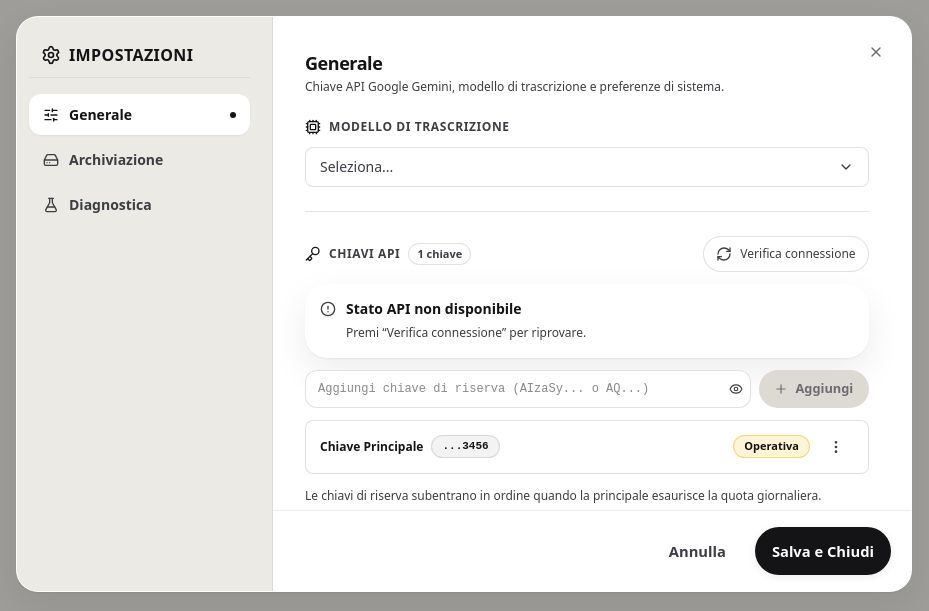
Test: SettingsModal — save behavior › missing bridge: modal stays open, inline error displayed, console notified
Click the button "Salva e Chiudi" at (823, 551), box top-left (755, 527), bottom-right (891, 575)
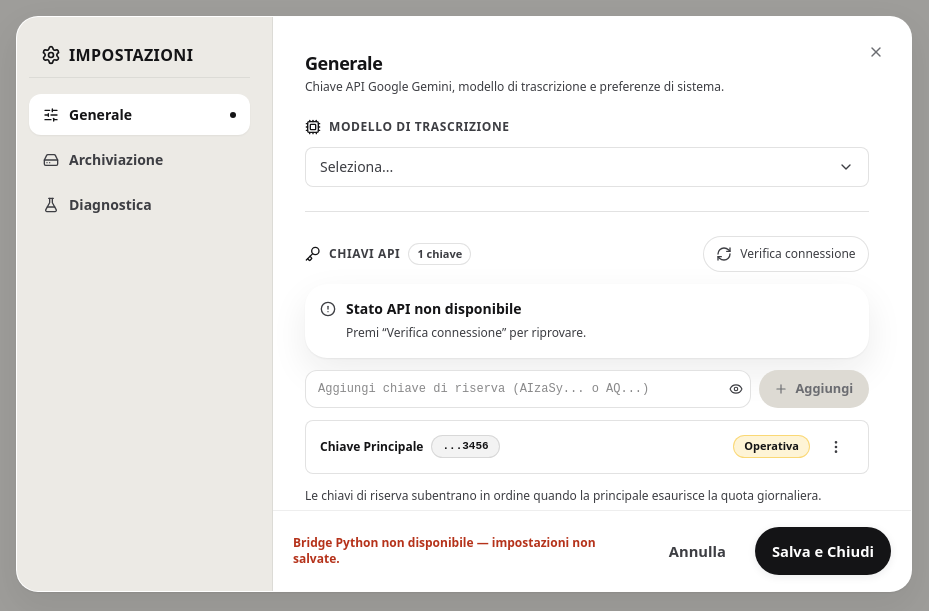
Result: the text "Bridge Python non disponibile — impostazioni non salvate." is shown at top-left (293, 535), bottom-right (640, 567)
